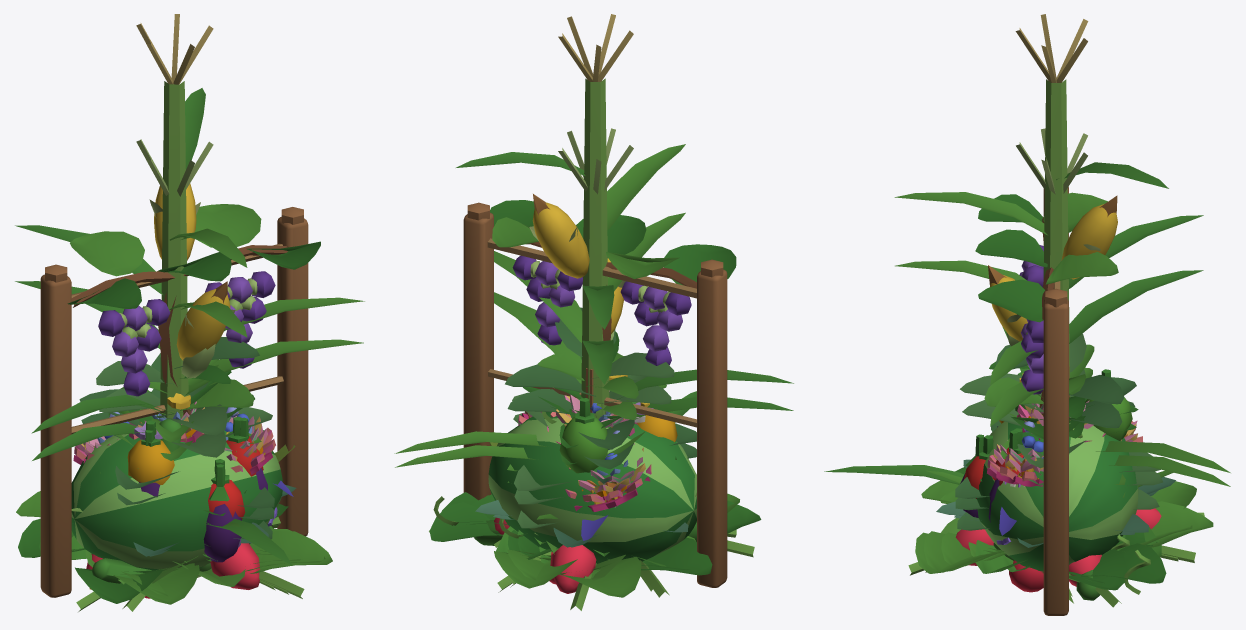
The model's file is crops2.glb.
The picture shows the model from 3 angles, left to right: view 1: azimuth 30°, elevation 25°; view 2: azimuth 150°, elevation 25°; view 3: azimuth 270°, elevation 25°; orthographic projection.
Parts seen in each view (by area): view 1: crop_traube_2, crop_melone_3, crop_mais_3, crop_traube_1, crop_aubergine_3, crop_mais_2, crop_traube_3, crop_paprika_3, crop_melone_2, crop_aubergine_2, crop_gurke_3, crop_erdbeere_3 (+4 smaller); view 2: crop_melone_3, crop_mais_3, crop_traube_2, crop_traube_1, crop_mais_2, crop_traube_3, crop_aubergine_3, crop_melone_2, crop_paprika_3, crop_aubergine_2, crop_gurke_2, crop_erdbeere_3 (+6 smaller); view 3: crop_traube_2, crop_melone_3, crop_mais_3, crop_mais_2, crop_melone_2, crop_aubergine_3, crop_paprika_3, crop_aubergine_2, crop_traube_3, crop_traube_1, crop_gurke_2, crop_erdbeere_3 (+7 smaller).
Part boxes in pixels (x1,y1,x2,y2): crop_traube_2: (40, 204, 320, 597); crop_melone_3: (16, 421, 332, 611); crop_mais_3: (15, 14, 364, 565); crop_traube_1: (40, 208, 307, 597); crop_aubergine_3: (79, 337, 274, 562); crop_mais_2: (15, 139, 363, 564); crop_traube_3: (48, 208, 288, 396); crop_paprika_3: (100, 365, 263, 519); crop_melone_2: (18, 504, 325, 611); crop_aubergine_2: (81, 388, 274, 519); crop_gurke_3: (89, 359, 279, 590); crop_erdbeere_3: (86, 543, 260, 589); crop_melone_3: (429, 412, 761, 610); crop_mais_3: (394, 14, 793, 453); crop_traube_2: (463, 200, 736, 587); crop_traube_1: (464, 203, 727, 587); crop_mais_2: (395, 128, 793, 467); crop_traube_3: (468, 206, 711, 365); crop_aubergine_3: (505, 307, 696, 490); crop_melone_2: (441, 492, 739, 597); crop_paprika_3: (507, 331, 677, 473); crop_aubergine_2: (507, 380, 696, 504); crop_gurke_2: (470, 351, 689, 591); crop_erdbeere_3: (494, 517, 609, 593); crop_traube_2: (975, 187, 1118, 615); crop_melone_3: (908, 421, 1204, 607); crop_mais_3: (829, 14, 1230, 482); crop_mais_2: (824, 128, 1230, 486); crop_melone_2: (921, 480, 1213, 603); crop_aubergine_3: (955, 334, 1160, 522); crop_paprika_3: (961, 344, 1138, 498); crop_aubergine_2: (955, 368, 1162, 510); crop_traube_3: (1019, 245, 1066, 394); crop_traube_1: (980, 283, 1085, 615); crop_gurke_2: (940, 366, 1192, 596); crop_erdbeere_3: (955, 508, 1161, 586).
Bounding box in the file's own units: 0.8926 × 1.43 × 0.97.
